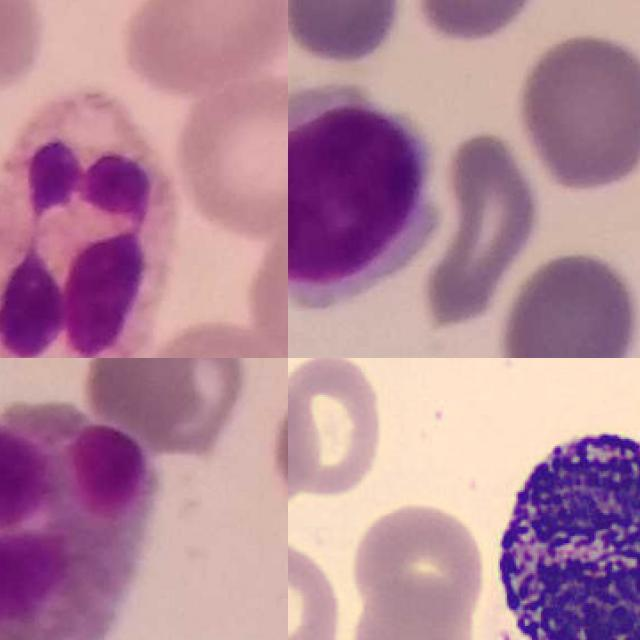Basophil: (479, 410, 640, 640)
Eosinophil: (0, 401, 163, 640)
Lymphocyte: (288, 78, 440, 317)
Neutrophil: (0, 94, 176, 358)
RBC: (347, 497, 488, 624), (288, 358, 386, 502), (347, 580, 482, 640), (288, 534, 350, 640)
